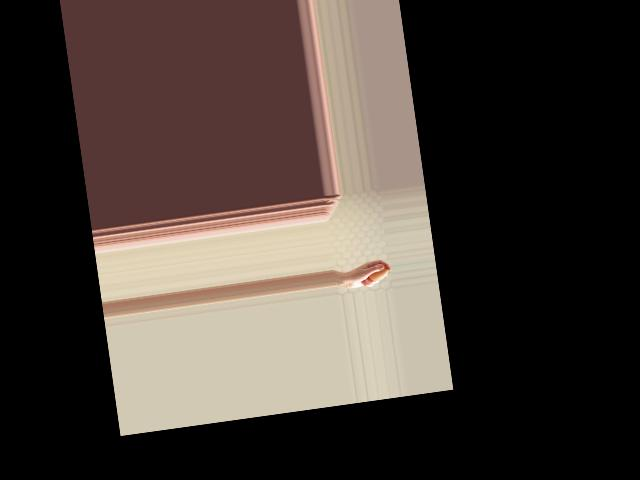egg: (367, 264, 388, 282)
